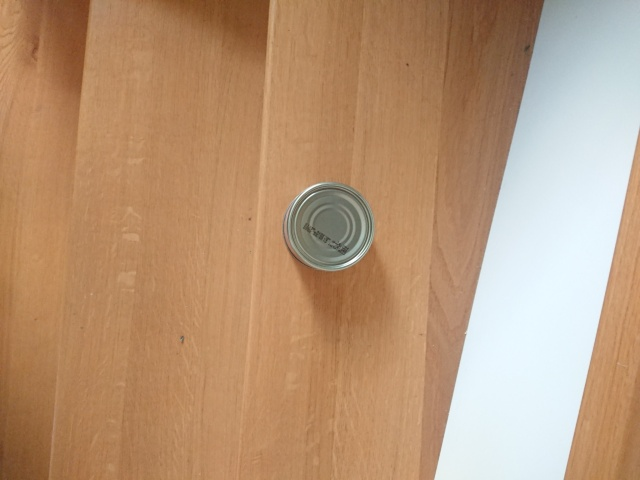Giana Tuna Salad Mexico 185g: (280, 179, 378, 274)
